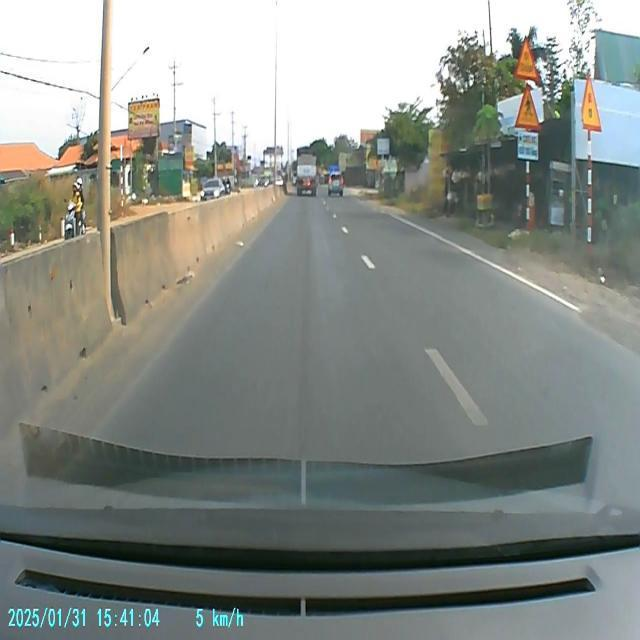209-giao-nhau-co-tin-hieu-den: (582, 66, 602, 134)
224-duong-nguoi-di-bo-cat-ngang: (514, 85, 542, 131)
245-di-cham: (514, 36, 540, 84)
